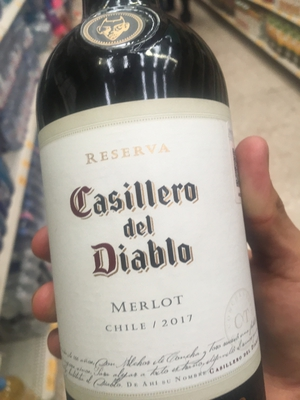casillero del diablo merlot: (35, 14, 266, 400)
